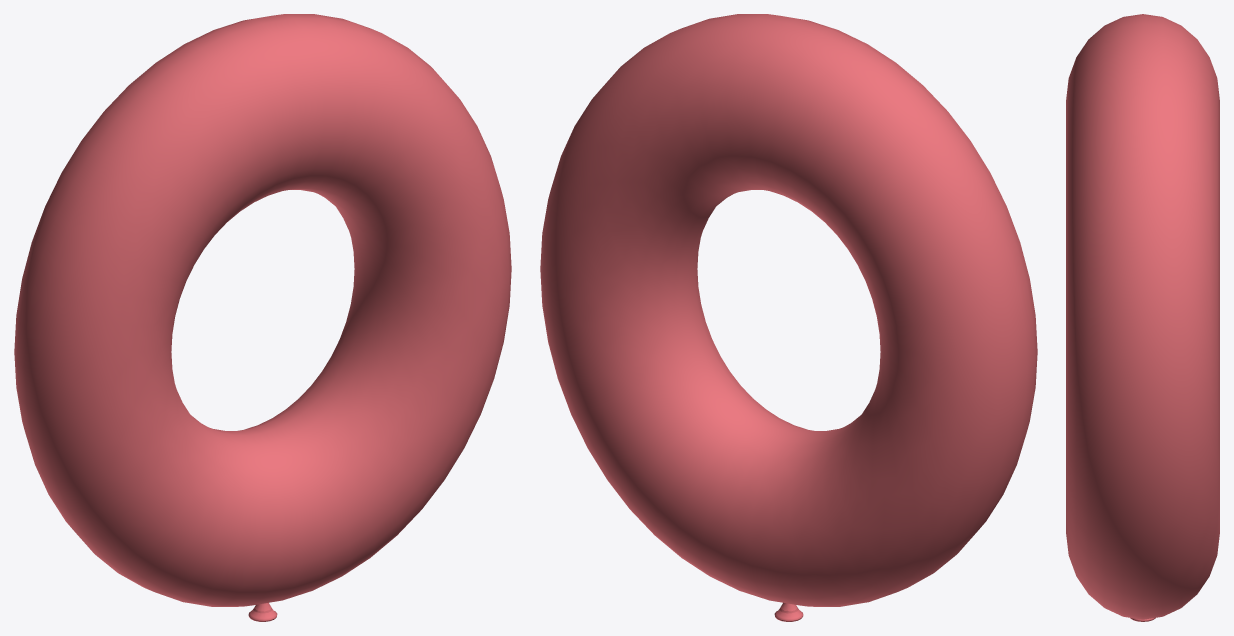
Rendered from LetterO.glb.
3 renders of one model, left to right at view 1: azimuth 30°, elevation 25°; view 2: azimuth 150°, elevation 25°; view 3: azimuth 270°, elevation 25°, orthographic. The views are drawn at different scales.
Visible parts, largest first — view 1: O; view 2: O; view 3: O.
Part boxes in pixels (x1,y1,x2,y2): O: (14, 14, 511, 621); O: (540, 14, 1037, 621); O: (1066, 14, 1219, 621).
Size of the model in its own units: 2.64 by 3.14 by 0.7553.
